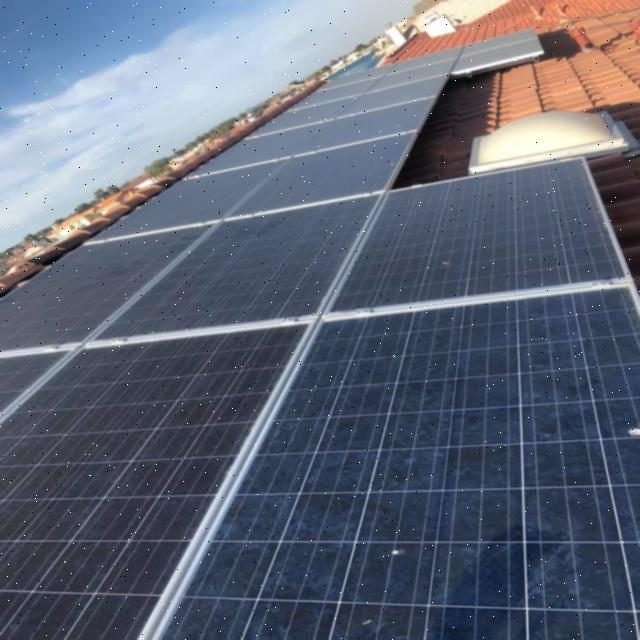clean: (10, 28, 637, 640)
